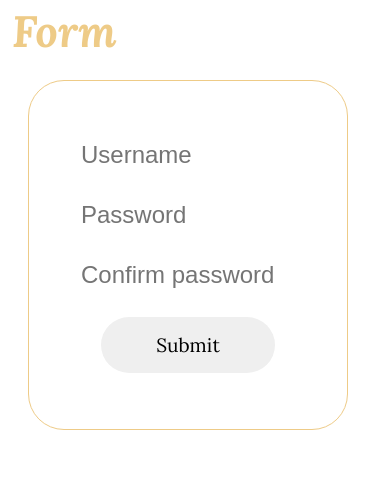
Test: FormTemplate › Displays properly based on props › Handles form with confirm password set to true › Displays message when trying to submit with mismatching passwords
Type "Test" into the field with placeholder "Username" at (188, 155), box [69,137,307,173]
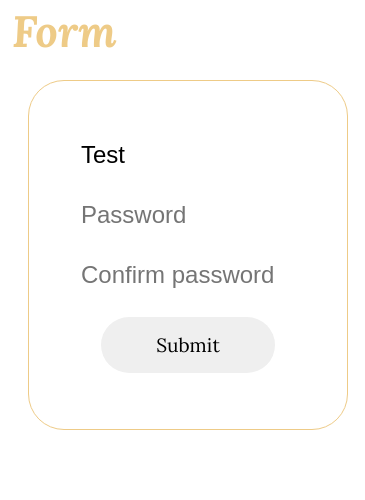
Type "aa" into the password field with placeholder "Password" at (188, 215), box [69,197,307,233]
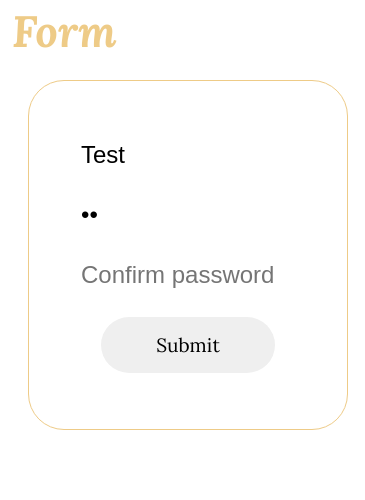
Type "a" into the password field with placeholder "Confirm password" at (188, 275), box [69,257,307,293]
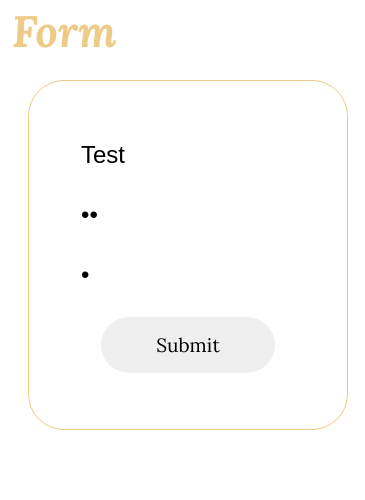
Click the button "Submit" at (188, 345), box [101,317,275,373]
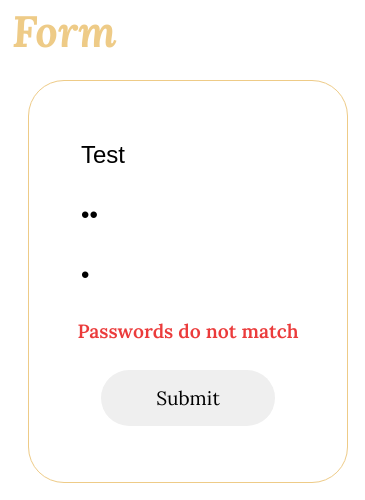
Now the text "Passwords do not match" is shown, box [69,317,307,346]
